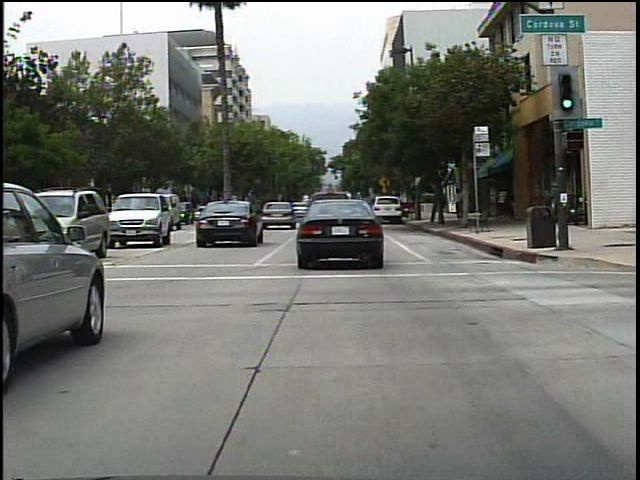person: (450, 185, 470, 225)
